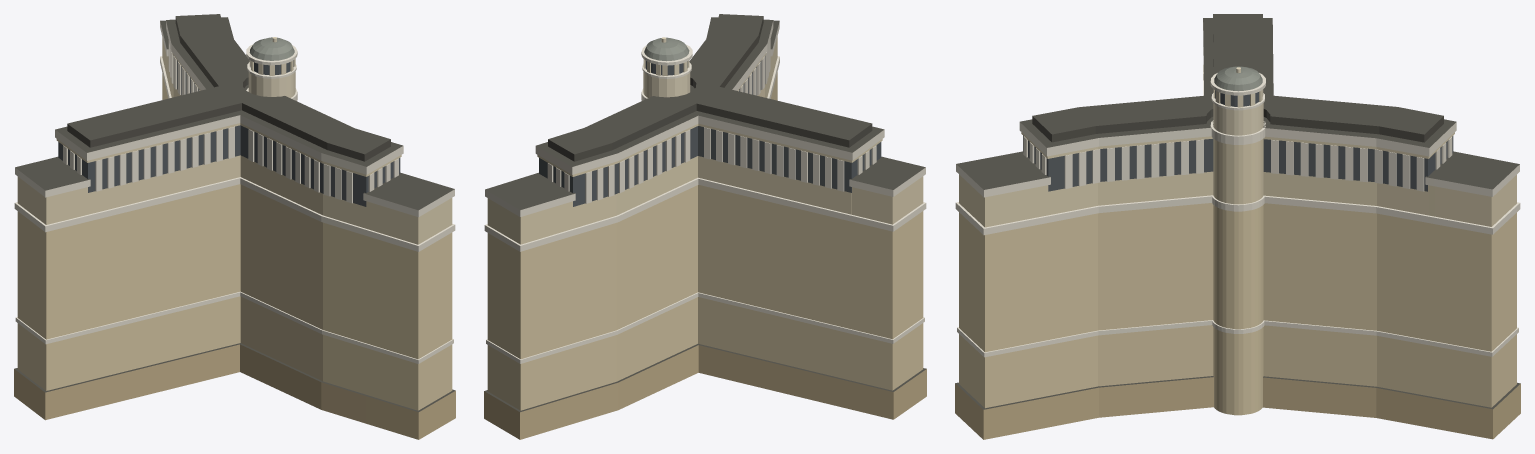
File: bellagio.glb
3 views of the same model, side by side, from view 1: azimuth 30°, elevation 25°; view 2: azimuth 150°, elevation 25°; view 3: azimuth 270°, elevation 25° (orthographic). The views are drawn at different scales.
Visible parts, largest first — view 1: ResortTower; view 2: ResortTower; view 3: ResortTower.
Boxes of the visible parts, x1,y1,x2,y2 form: ResortTower: [14, 14, 455, 439]; ResortTower: [484, 14, 926, 439]; ResortTower: [955, 14, 1520, 439].
Bounding box in the file's own units: 164 × 157 × 238.
